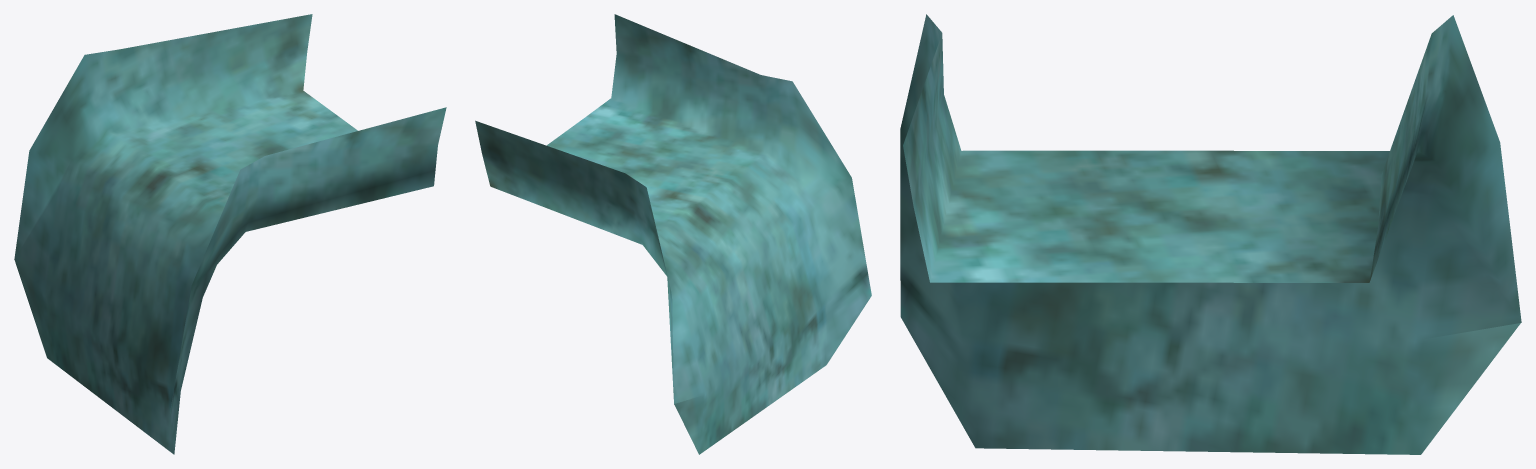
The model's file is EKH_THRONE_PS_TH_OBJECT20.fbx.
The picture shows the model from 3 angles, left to right: view 1: azimuth 30°, elevation 25°; view 2: azimuth 150°, elevation 25°; view 3: azimuth 270°, elevation 25°; orthographic projection. The views are drawn at different scales.
Visible parts, largest first — view 1: EKH_THRONE_PS_TH_OBJECT20; view 2: EKH_THRONE_PS_TH_OBJECT20; view 3: EKH_THRONE_PS_TH_OBJECT20.
Boxes of the visible parts, left/top/right/bottom form: EKH_THRONE_PS_TH_OBJECT20: left=14, top=14, right=446, bottom=454; EKH_THRONE_PS_TH_OBJECT20: left=475, top=14, right=871, bottom=454; EKH_THRONE_PS_TH_OBJECT20: left=900, top=14, right=1521, bottom=454.
Size of the model in its own units: 40466 by 41132 by 45344.
Materials: 1 (1 with a texture image).
